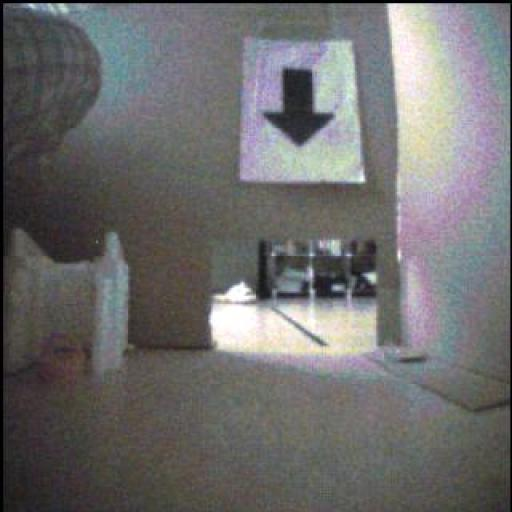arrow: (265, 70, 335, 147)
